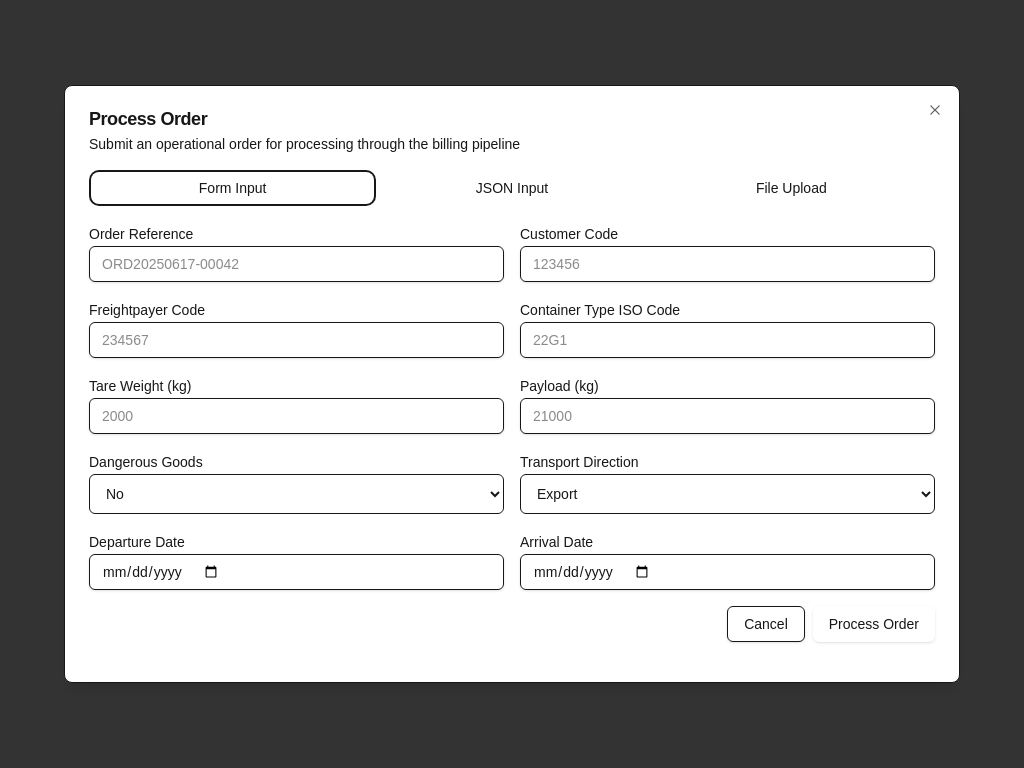
it: OrderProcessorForm › switches to JSON input tab
The width and height of the screenshot is (1024, 768).
What coordinates should you click on to do the following:
click the tab "JSON Input"
I would click on:
 (512, 188)
Its box is left=372, top=174, right=652, bottom=202.
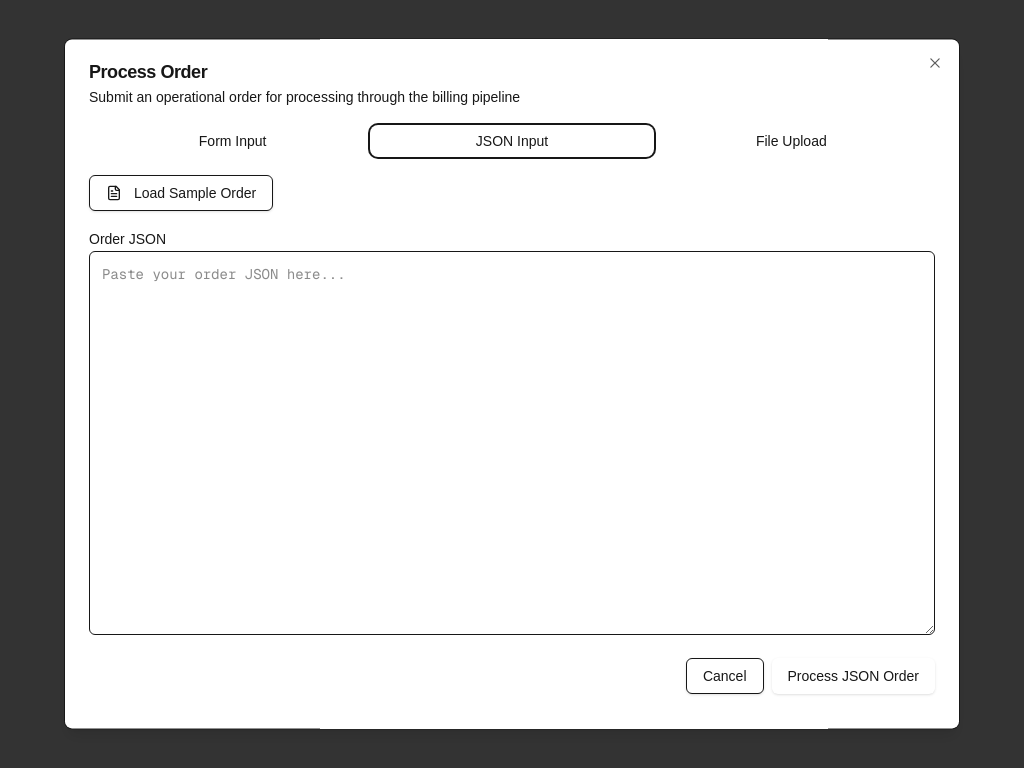
Now the text "Load Sample Order" is shown, box left=134, top=183, right=256, bottom=203
Now the text box with placeholder "Paste your order JSON here..." is shown, box left=89, top=251, right=935, bottom=635
